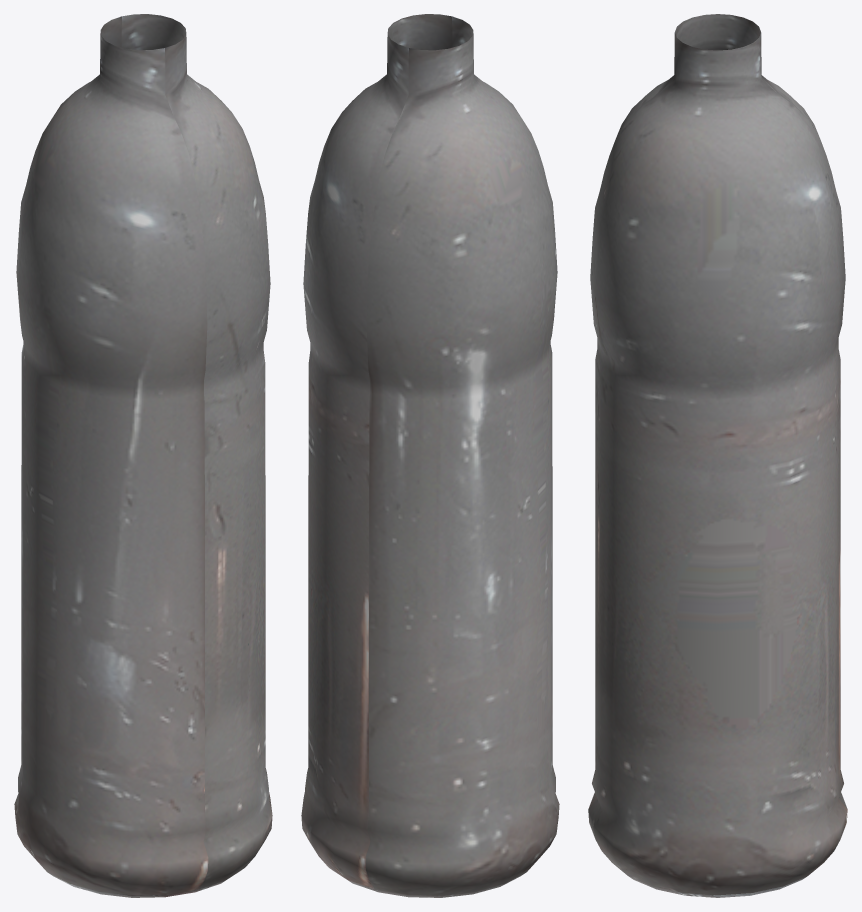
The model's file is bot1.obj.
3 views of the same model, side by side, from view 1: azimuth 30°, elevation 25°; view 2: azimuth 150°, elevation 25°; view 3: azimuth 270°, elevation 25° (orthographic).
Parts seen in each view (by area): view 1: bottle1; view 2: bottle1; view 3: bottle1.
Boxes of the visible parts, <box> form: bottle1: <box>14,14,272,897</box>; bottle1: <box>301,14,559,897</box>; bottle1: <box>588,14,847,897</box>.
Size of the model in its own units: 71.05 by 250 by 71.05.
